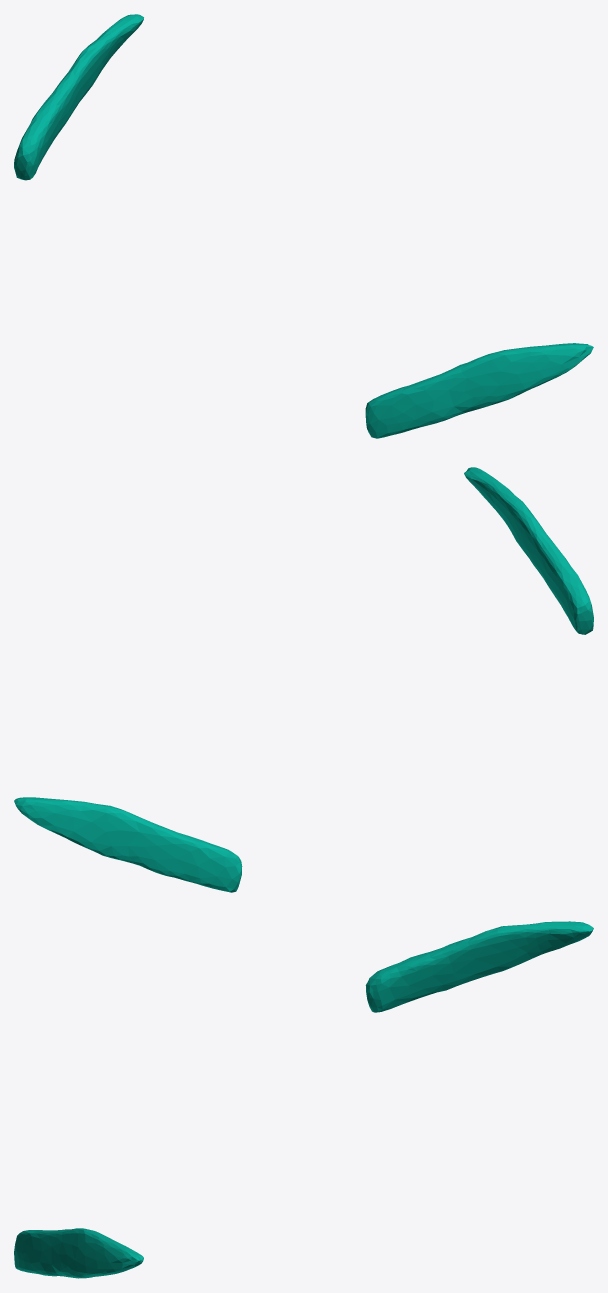
The picture shows the model from 3 angles, top to bottom: view 1: azimuth 30°, elevation 25°; view 2: azimuth 150°, elevation 25°; view 3: azimuth 330°, elevation 25°; orthographic projection.
Visible parts, largest first — view 1: 180.obj; view 2: 180.obj; view 3: 180.obj.
Boxes of the visible parts, box(x1,y1,x2,y2) form: 180.obj: box(14, 14, 593, 438); 180.obj: box(14, 467, 593, 892); 180.obj: box(14, 921, 593, 1278).
Bounding box in the file's own units: 2026 × 995 × 9069.
